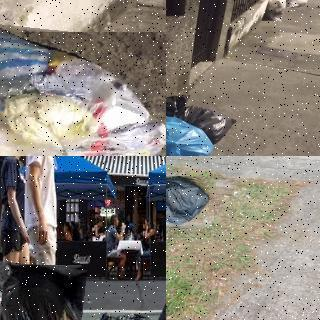Garbage: (0, 27, 166, 156), (0, 263, 84, 320), (166, 93, 238, 145), (166, 173, 215, 229), (166, 118, 215, 156)
